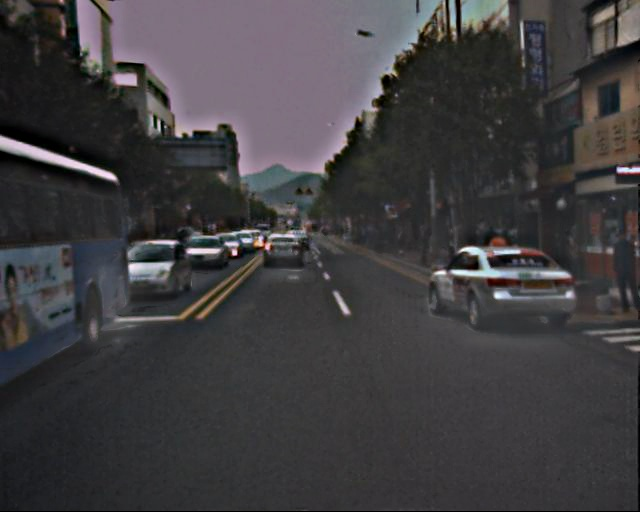person: (596, 226, 640, 314), (443, 227, 457, 260)
